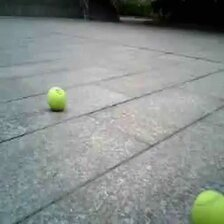tennis: (191, 189, 224, 224), (46, 84, 64, 111)
